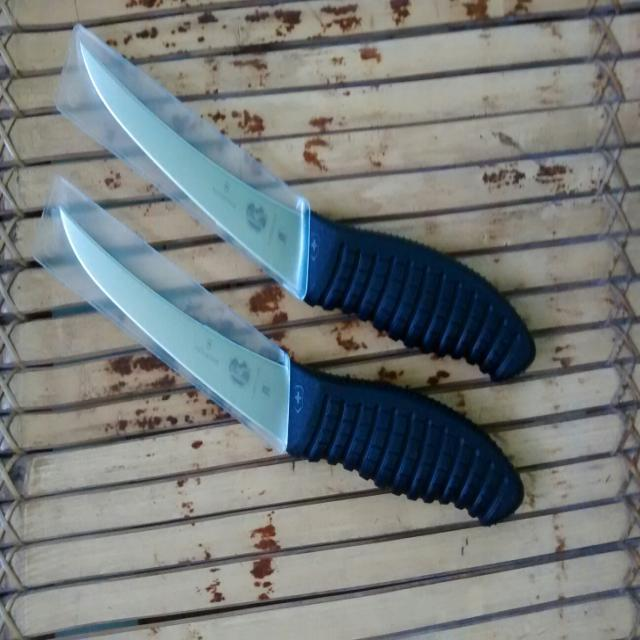Pisau: (75, 23, 547, 386)
